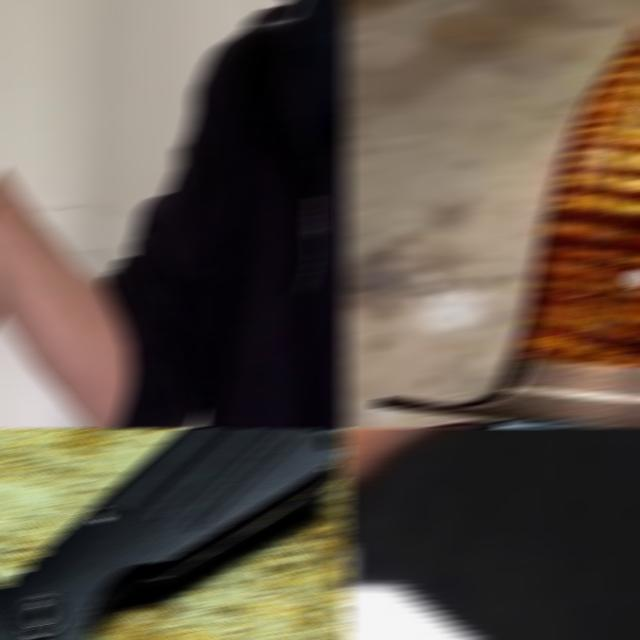Knife: (342, 544, 640, 640)
Knife_Handle: (342, 460, 640, 640)
